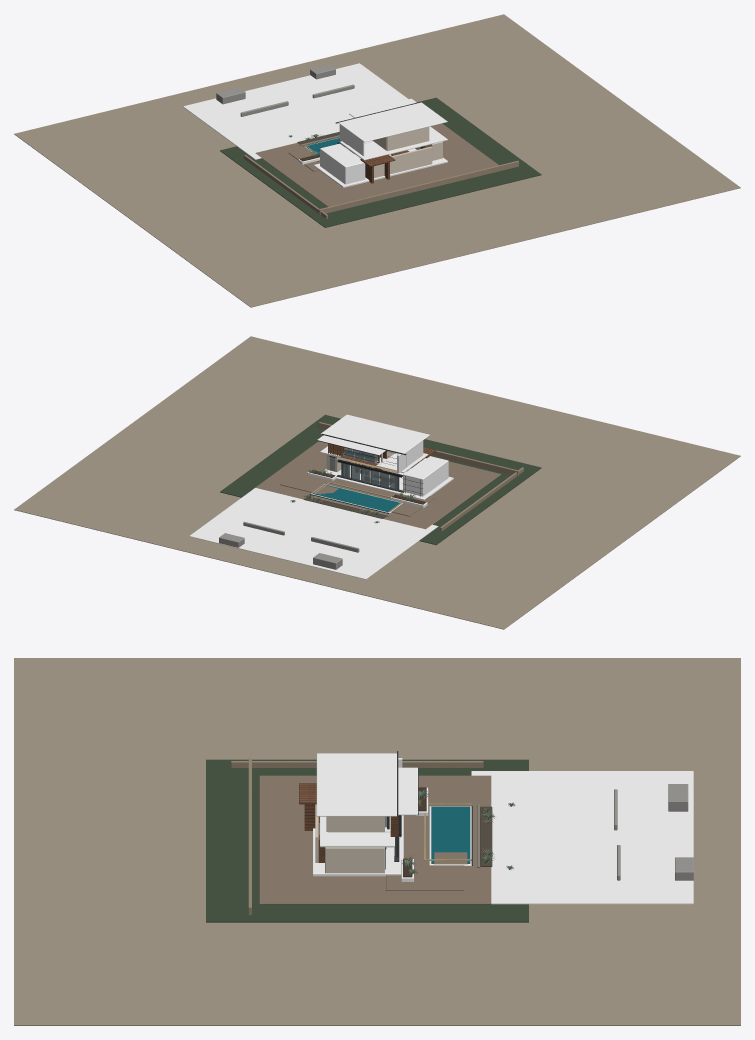
The model's file is villa.glb.
The picture shows the model from 3 angles, top to bottom: view 1: azimuth 30°, elevation 25°; view 2: azimuth 150°, elevation 25°; view 3: azimuth 270°, elevation 25°; orthographic projection. The views are drawn at different scales.
Visible parts, largest first — view 1: context_ground_r4, pool_context_ground_v3, garden_field, site_plinth, roof_plane, rear_boundary_r4, ground_left_stone_core, ground_back_wall, upper_floor_slab, master_rear_wall_v04_r3, ground_floor_slab; view 2: context_ground_r4, pool_context_ground_v3, garden_field, site_plinth, roof_plane, terrace_deck, ground_left_stone_core, pool_water, ground_floor_slab, rear_boundary_r4, left_boundary_r4; view 3: context_ground_r4, pool_context_ground_v3, garden_field, site_plinth, roof_plane, terrace_deck, pool_water, ground_right_private_core, upper_floor_slab, left_boundary_r4, ground_floor_slab, master_right_wall_v04_r3 (+3 smaller).
Boxes of the visible parts, box(x1,y1,x2,y2) form: context_ground_r4: box(14, 14, 740, 307); pool_context_ground_v3: box(183, 63, 408, 159); garden_field: box(220, 97, 541, 227); site_plinth: box(255, 123, 498, 206); roof_plane: box(338, 102, 447, 142); rear_boundary_r4: box(318, 161, 518, 214); ground_left_stone_core: box(320, 143, 365, 184); ground_back_wall: box(374, 146, 432, 178); upper_floor_slab: box(339, 126, 447, 160); master_rear_wall_v04_r3: box(387, 126, 429, 150); ground_floor_slab: box(313, 148, 447, 187); context_ground_r4: box(14, 336, 740, 629); pool_context_ground_v3: box(189, 488, 438, 579); garden_field: box(220, 414, 541, 545); site_plinth: box(255, 441, 501, 529); roof_plane: box(321, 414, 429, 453); terrace_deck: box(280, 465, 435, 516); ground_left_stone_core: box(403, 456, 448, 496); pool_water: box(312, 484, 400, 512); ground_floor_slab: box(324, 462, 453, 499); rear_boundary_r4: box(318, 422, 518, 476); left_boundary_r4: box(440, 467, 523, 531); context_ground_r4: box(14, 658, 740, 1025); pool_context_ground_v3: box(471, 771, 693, 904); garden_field: box(206, 759, 528, 922); site_plinth: box(259, 775, 491, 904); roof_plane: box(316, 753, 396, 816); terrace_deck: box(386, 793, 464, 890); pool_water: box(431, 806, 470, 863); ground_right_private_core: box(325, 847, 384, 873); upper_floor_slab: box(320, 816, 394, 847); left_boundary_r4: box(231, 761, 483, 767); ground_floor_slab: box(313, 815, 403, 876); master_right_wall_v04_r3: box(327, 816, 384, 832).
Bounding box in the file's own units: 86 × 7.15 × 72.
Materials: 49 (3 with a texture image).
